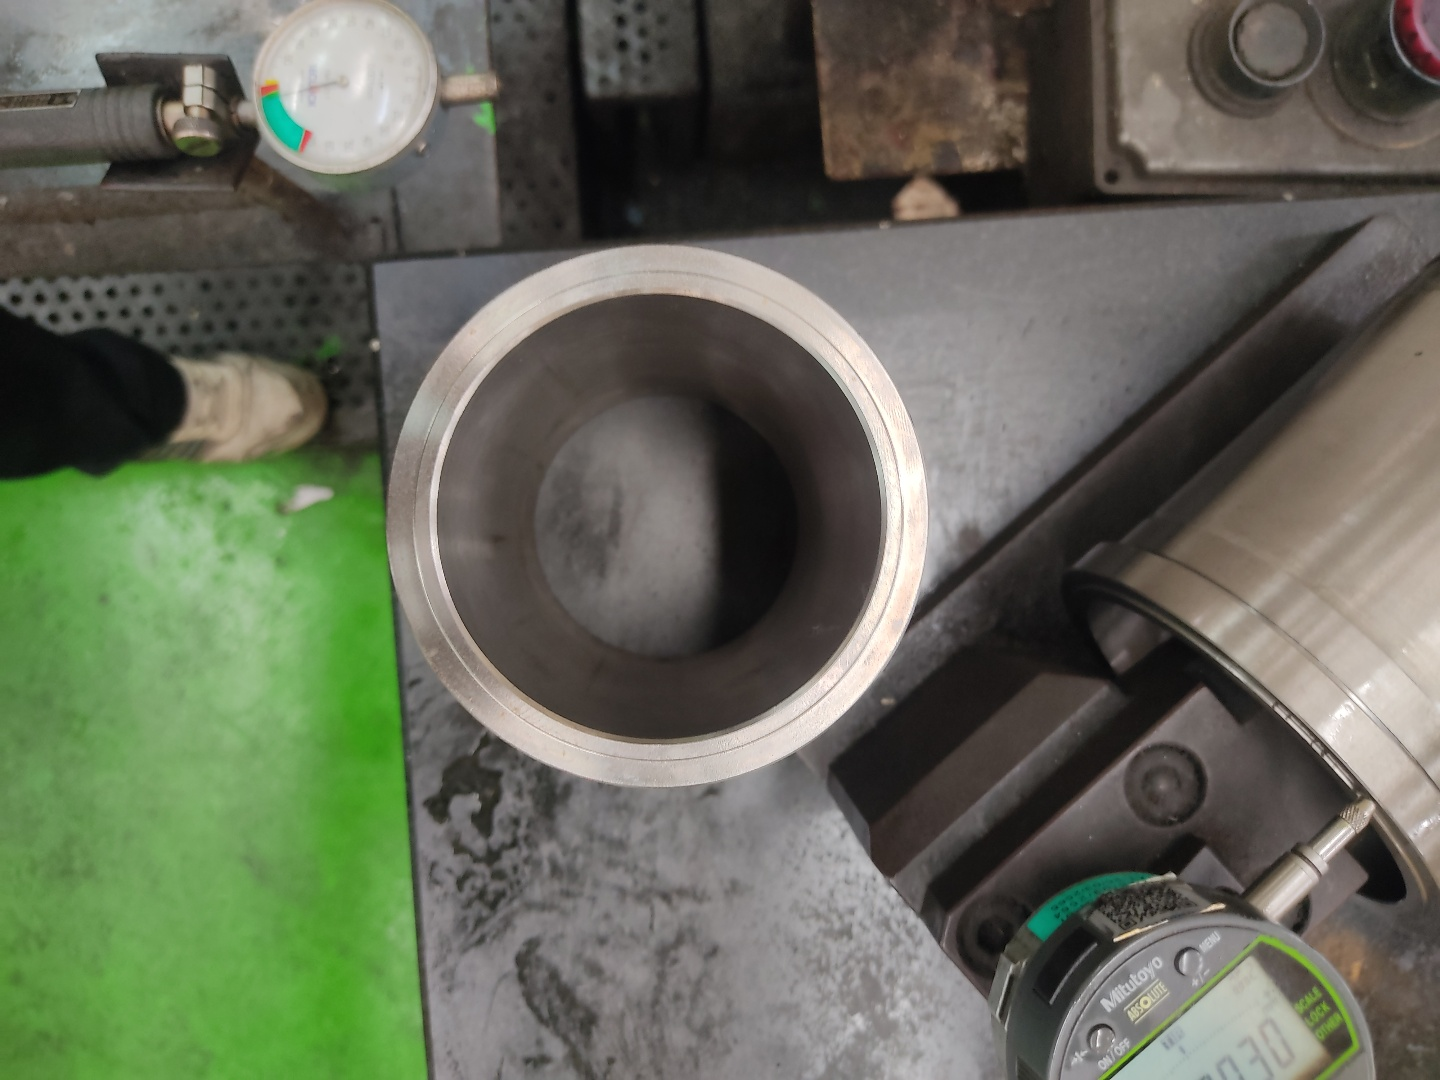cylinder: (382, 241, 934, 794)
